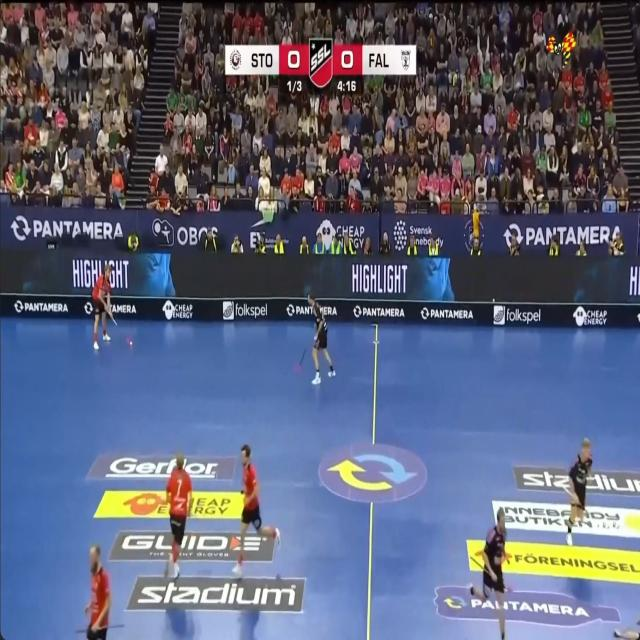Balls: (127, 339, 133, 347)
player: (233, 444, 280, 575), (470, 507, 506, 639), (164, 453, 192, 578), (566, 438, 592, 545), (308, 293, 335, 384), (85, 546, 111, 639), (92, 263, 111, 350), (613, 629, 640, 639), (637, 621, 640, 624)
stick: (469, 556, 485, 570), (107, 307, 117, 326), (563, 486, 573, 504), (298, 347, 306, 366), (102, 624, 124, 629), (74, 627, 86, 634), (111, 314, 117, 326), (582, 507, 588, 515), (505, 585, 512, 591), (576, 504, 578, 505)
